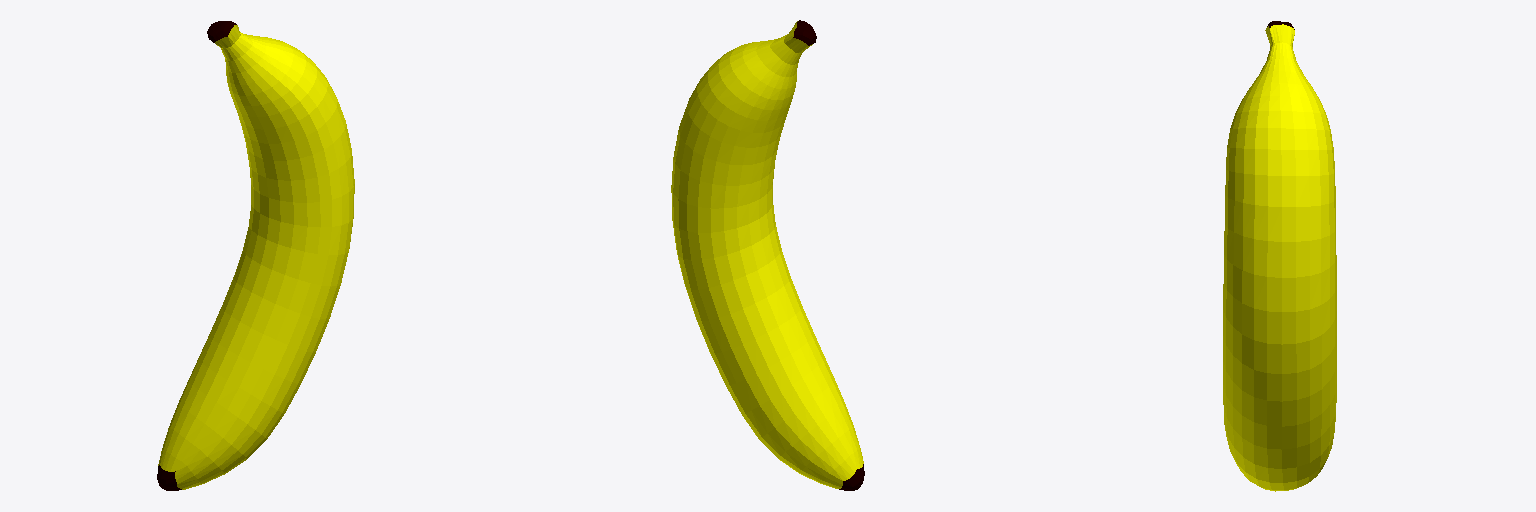
robot.urdf — banana:
<robot name="banana">
  <link name="banana_link">

    <inertial>
      <origin xyz="0.008419 0.000166 0.084099" rpy="0 0 0" />
      <mass value="0.01" />
      <inertia ixx="3.5873e-05" ixy="1.5e-8" ixz="-6.393e-6" iyy="3.8443e-5" iyz="1.5e-8" izz="5.457e-6" />
      <!-- <mass value="0.1" />
      <inertia ixx="3.5873e-04" ixy="1.5e-7" ixz="-6.393e-5" iyy="3.8443e-4" iyz="-1.5e-7" izz="5.457e-5" /> -->
      <!-- <mass value="1" />
      <inertia ixx="3.5873e-03" ixy="1.5e-6" ixz="-6.393e-4" iyy="3.8443e-3" iyz="-1.5e-6" izz="5.457e-4" /> -->
    </inertial>

    <visual>
      <origin xyz="0 0 0" rpy="0 0 0" />
      <geometry>
        <mesh filename="package://robot_sim/grasp/urdf/meshes/banana.dae" />
      </geometry>
    </visual>

    <collision>
      <origin xyz="0 0 0" rpy="0 0 0" />
      <geometry>
        <mesh filename="package://robot_sim/grasp/urdf/meshes/banana.dae" />
      </geometry>
    </collision>

  </link>

  <gazebo reference="banana_link">
    <mu1>0.9</mu1>
    <mu2>0.9</mu2>
  </gazebo>

</robot>

<!-- 这是放大了10倍输出的结果 放大10倍是为了Inertia Tensor的精度
Filters->Normals,Curvatures and Orientation->Transform:Scale,Normalize->X Axis 倍数
Filters->Quality Measure and Computations->Compute Geometric Measures

Mesh Bounding Box Size 0.772784 0.386718 1.818567
Mesh Bounding Box Diag 2.013438 
Mesh Bounding Box min -0.386392 -0.193359 0.000000
Mesh Bounding Box max 0.386392 0.193359 1.818567
Mesh Surface Area is 2.098398
Mesh Total Len of 7680 Edges is 262.790222 Avg Len 0.034217
Mesh Total Len of 7680 Edges is 262.790222 Avg Len 0.034217 (including faux edges))
Thin shell (faces) barycenter: 0.068169 0.001848 0.852992
Vertices barycenter -0.006236 0.002130 0.991042
Mesh Volume is 0.174295
Center of Mass is 0.084190 0.001663 0.840995<<<<<<<<<<<<<<<<<<<<<<<<<<<<<<<<<<<<<<<<<<<<<<<<<<<<<<<<<<<<<<<<<<<<<<<<<<<除以倍数就是原质心位置
Inertia Tensor is :
| 0.035873 0.000015 -0.006393 |                   ixx ixy ixz
| 0.000015 0.038443 -0.000015 |                       iyy iyz   都除以倍数之后就是质量为1时的惯性矩阵   若要改质量则矩阵中的元素与质量成正比
| -0.006393 -0.000015 0.005457 |                          izz
Principal axes are :
| -0.197649 -0.000343 -0.980273 |
| -0.980180 0.013812 0.197626 |
| -0.013472 -0.999905 0.003066 |
axis momenta are :
| 0.004168 0.037162 0.038443 |
Applied filter Compute Geometric Measures in 49 msec 
 -->

--- What the picture shows (computed from the rendered views, not written in the file) ---
3 views of the same robot in one strip: view 1: azimuth 30°, elevation 25°; view 2: azimuth 150°, elevation 25°; view 3: azimuth 270°, elevation 25° (orthographic).
Robot: banana — 1 links, 0 joints (none); root link banana_link; default pose: all joints at 0.
Links seen in each view (by area): view 1: banana_link; view 2: banana_link; view 3: banana_link.
Boxes of the visible links, x1,y1,x2,y2 form: banana_link: [157, 21, 354, 490]; banana_link: [671, 20, 864, 490]; banana_link: [1223, 21, 1336, 491].
Bounding box of the posed robot: 0.0773 × 0.0387 × 0.1819 m (x, y, z).
Meshes: 1 distinct files referenced, 1 mesh visuals loaded (1 Collada DAE).
